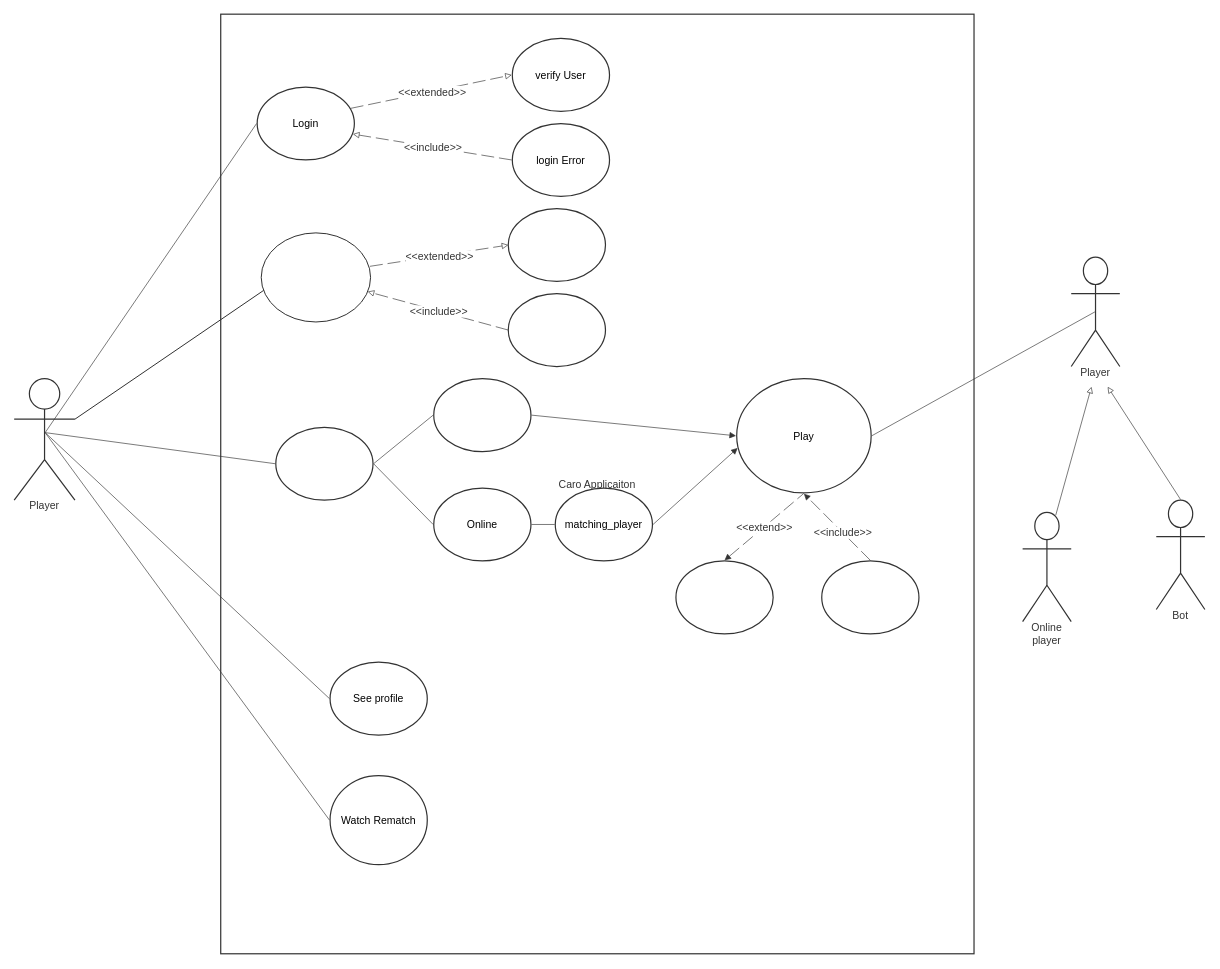
Image size: 1220x969. Some labels were removed from this diagram. The shapes that lost their labels are listed below. From the top down, each one's box as (x1, y1, x2, y2) in pixels, then its label:
(507, 208, 606, 282): verify register
(260, 232, 371, 322): Register
(507, 293, 606, 367): register error
(433, 378, 531, 452): Offline
(275, 426, 373, 500): Play Game
(675, 560, 773, 634): move
(821, 560, 919, 634): isWin
